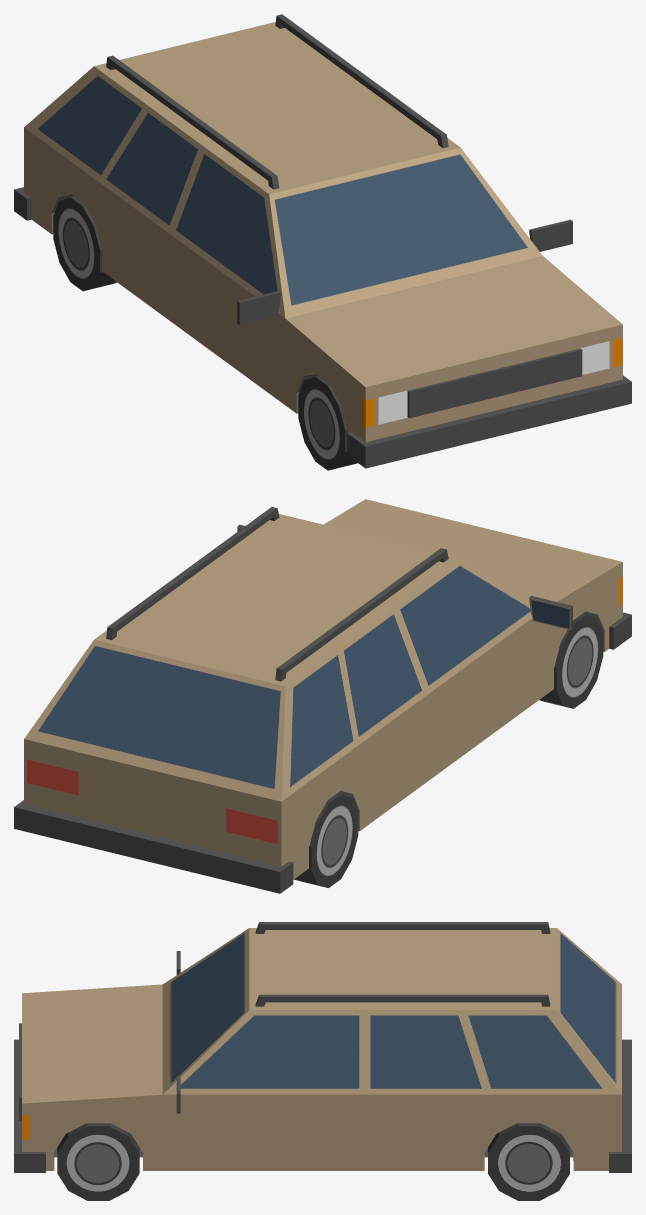
Rendered from Wagon_E.fbx.
3 renders of one model, top to bottom at view 1: azimuth 30°, elevation 25°; view 2: azimuth 150°, elevation 25°; view 3: azimuth 270°, elevation 25°, orthographic. The views are drawn at different scales.
Visible parts, largest first — view 1: Wagon_E; view 2: Wagon_E; view 3: Wagon_E.
Part boxes in pixels (x1=…): Wagon_E: x1=14, y1=14, x2=631, y2=470; Wagon_E: x1=14, y1=499, x2=631, y2=893; Wagon_E: x1=14, y1=922, x2=631, y2=1200.
Bounding box in the file's own units: 263 × 160 × 481.
